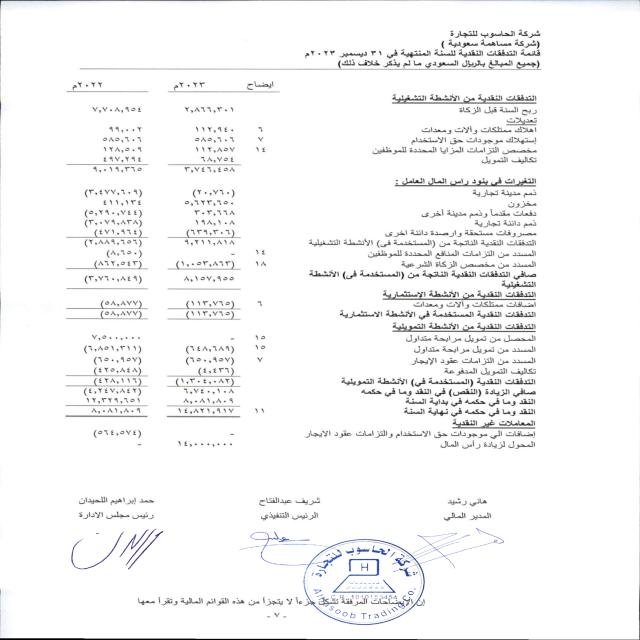financial_sheets: (457, 48, 540, 58)
table: (45, 74, 288, 453)
